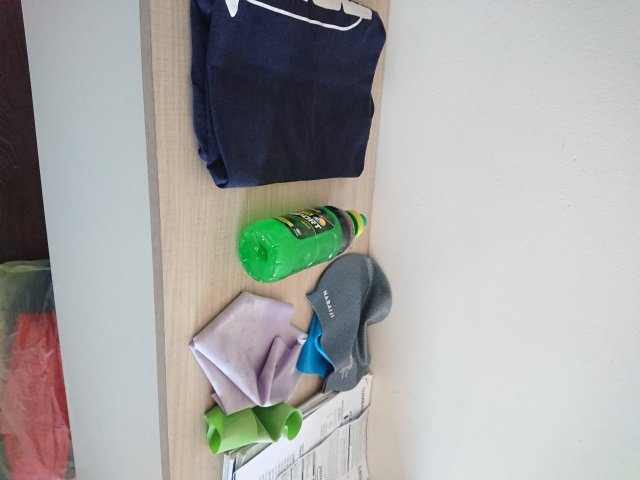Vindi Iso Sport Lemon-Grapefruit 500mL: (235, 203, 369, 286)
